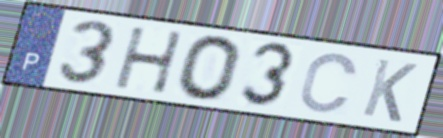3: (236, 41, 300, 111), (55, 19, 120, 87)
C: (296, 51, 361, 116)
H: (112, 25, 187, 96)
K: (358, 56, 420, 125)
O: (174, 33, 245, 103)
